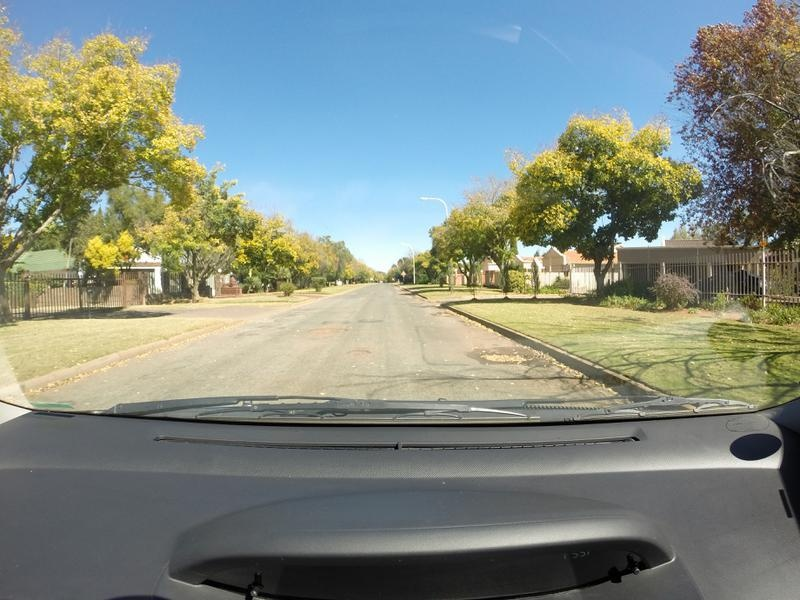pothole: (299, 320, 346, 337), (479, 347, 518, 366), (346, 348, 368, 356)
